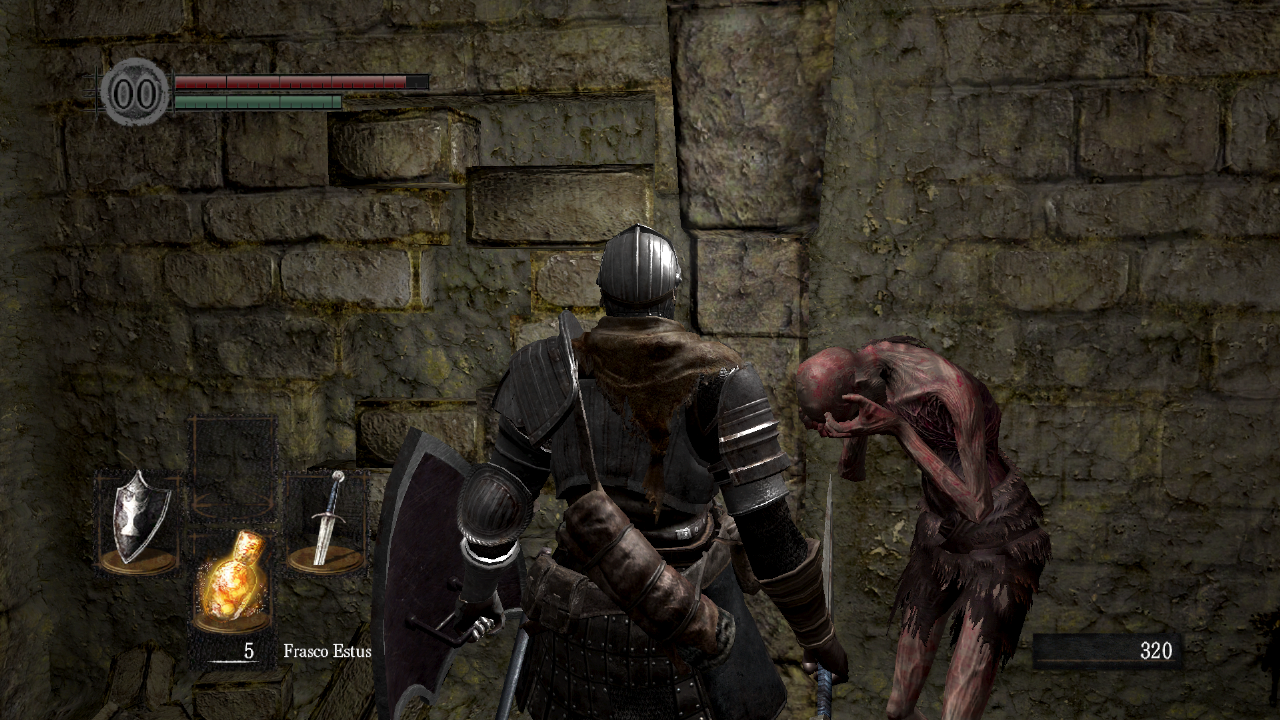hollow: (795, 335, 1055, 720)
player: (372, 224, 850, 720)
